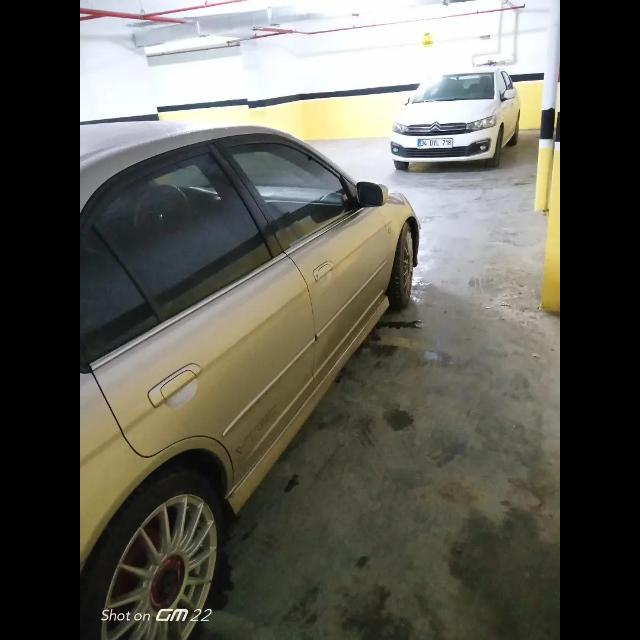Plaka: (418, 138, 452, 146)
